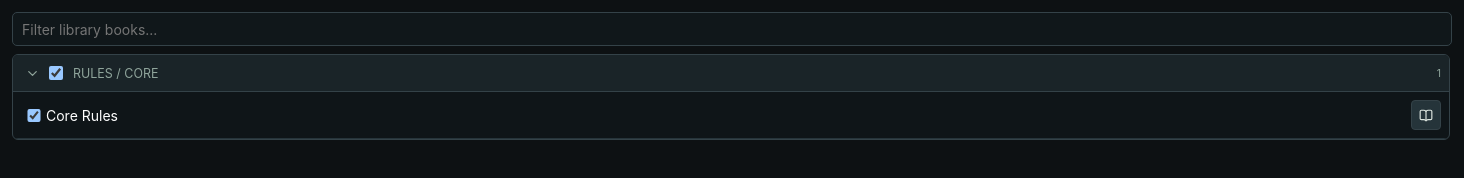
Test case: reports checkbox API failures without changing source-of-truth locally
The width and height of the screenshot is (1464, 178).
What coordinates should you click on to do the following:
click the checkbox labelled "Core Rules"
I would click on:
 (34, 115)
Its box is [25, 108, 43, 122].
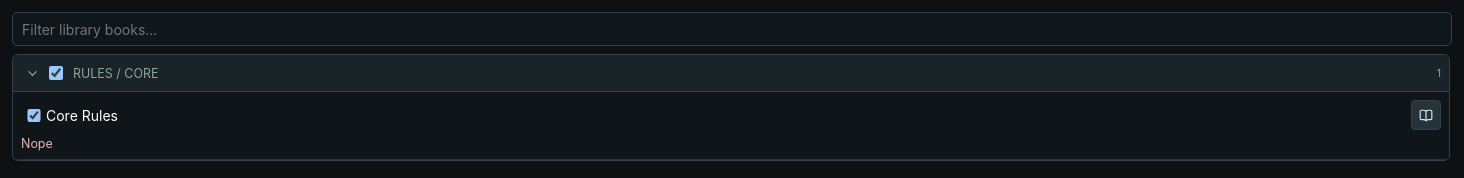
Check: the text "Nope" is shown, box [21, 136, 53, 151]
